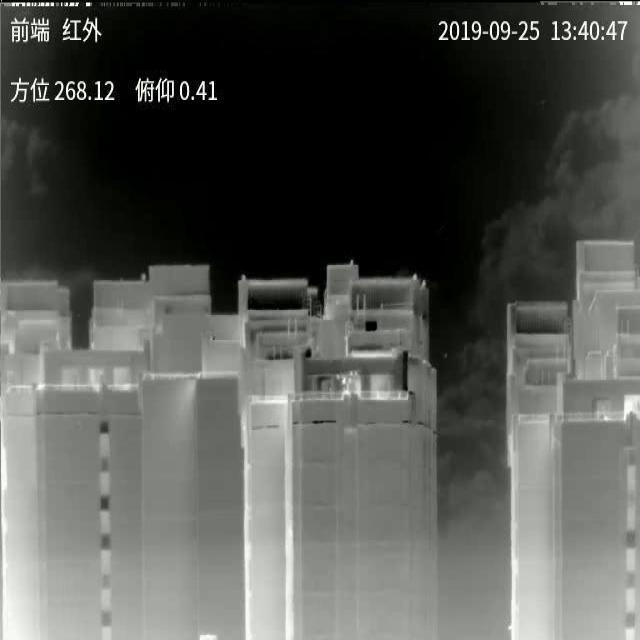drone: (335, 371, 358, 394)
